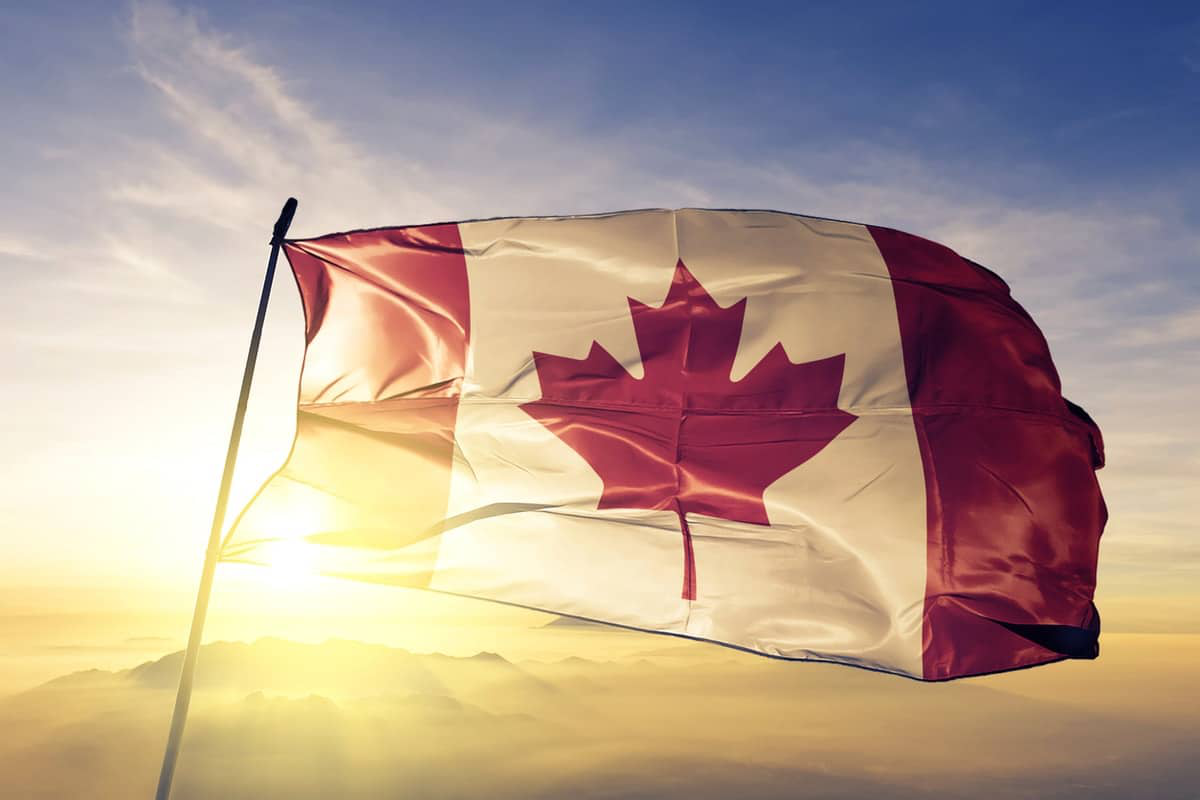Canada flag: (218, 204, 1113, 685)
